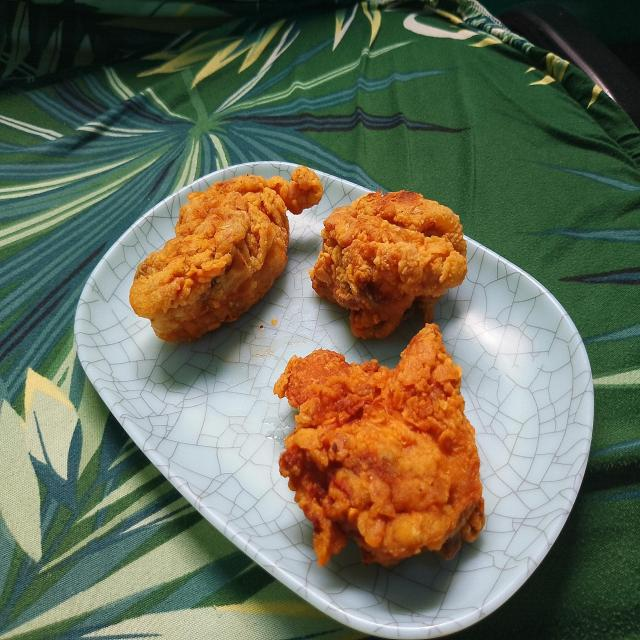Chicken -Fried Chicken-: (145, 164, 503, 557)
